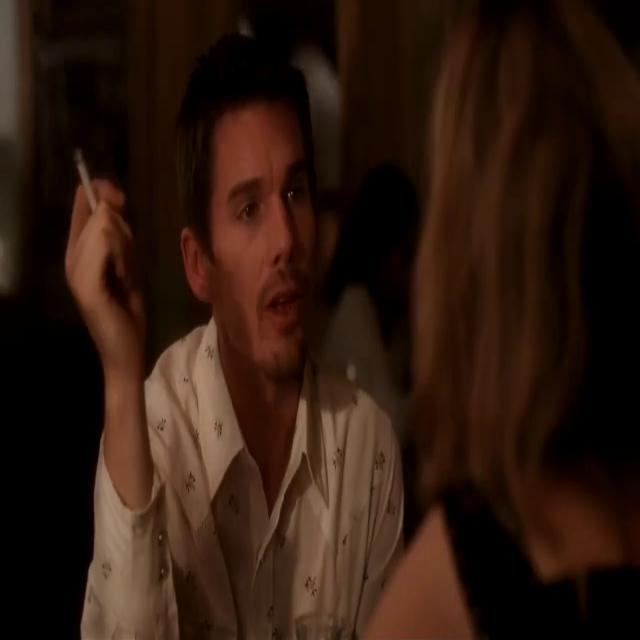Smooking: (74, 144, 96, 218)
